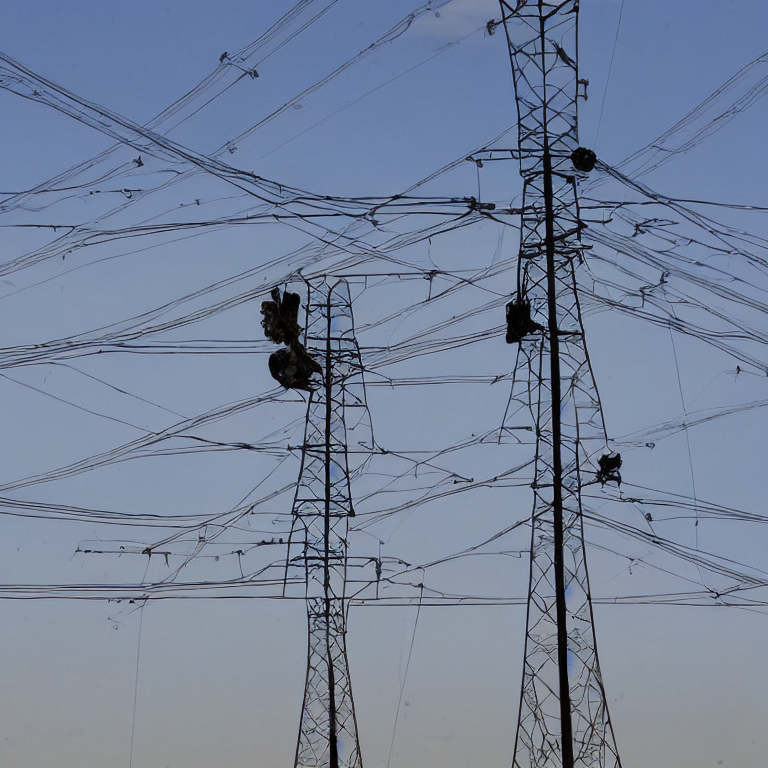nest: (266, 343, 317, 387), (573, 146, 594, 173)
